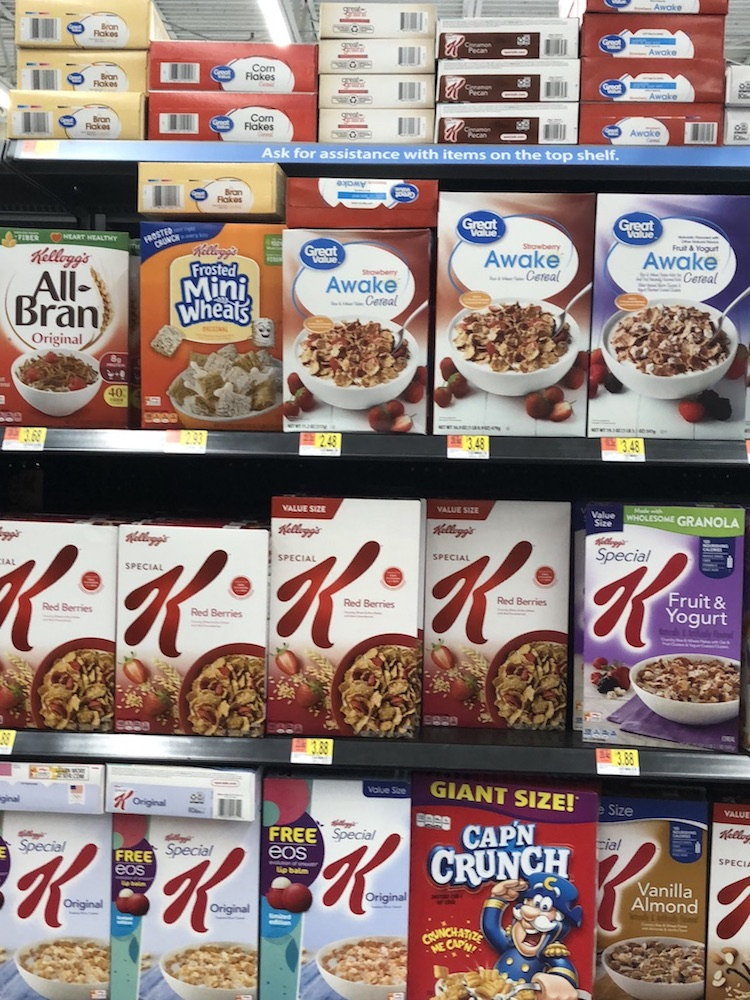Frosted Mini Original -9295869: (145, 220, 282, 429)
